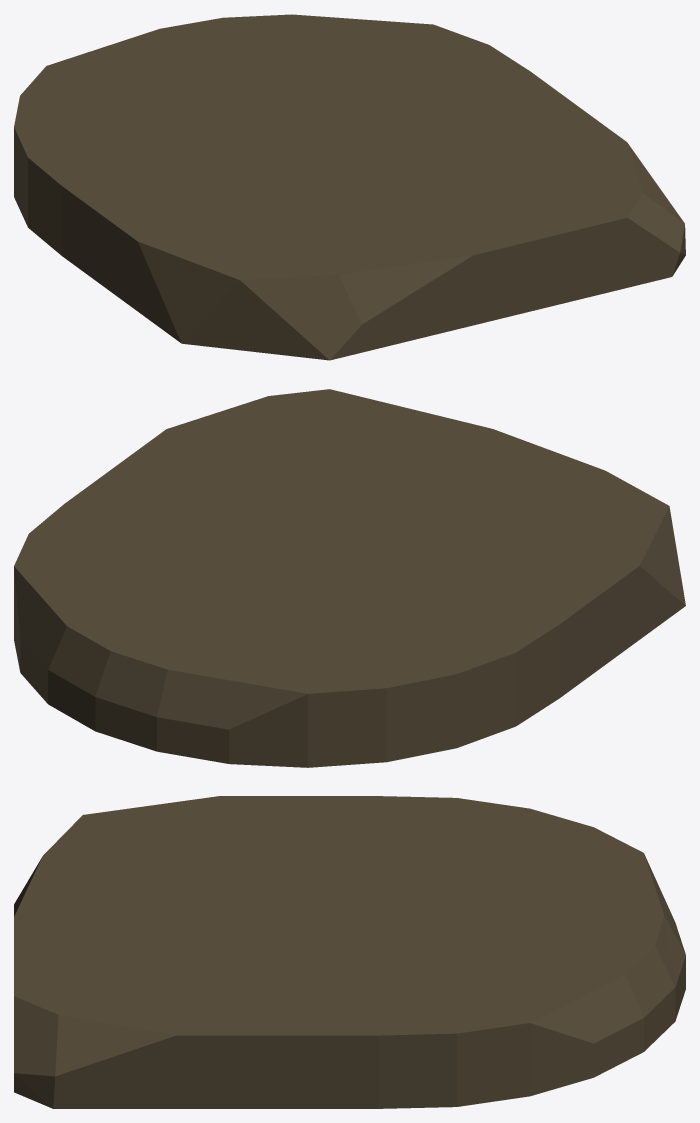
File: ITMI_STONEPLATE_READ_04.OBJ
3 views of the same model, one above another, from view 1: azimuth 30°, elevation 25°; view 2: azimuth 150°, elevation 25°; view 3: azimuth 270°, elevation 25° (orthographic). The views are drawn at different scales.
Visible parts, largest first — view 1: ITMI_STONEPLATE_READ_04; view 2: ITMI_STONEPLATE_READ_04; view 3: ITMI_STONEPLATE_READ_04.
Part boxes in pixels (box(x1,y1,x2,y2)): ITMI_STONEPLATE_READ_04: box(14, 14, 685, 360); ITMI_STONEPLATE_READ_04: box(14, 389, 685, 767); ITMI_STONEPLATE_READ_04: box(14, 796, 685, 1108).
Bounding box in the file's own units: 0.4191 × 0.0599 × 0.4969.
